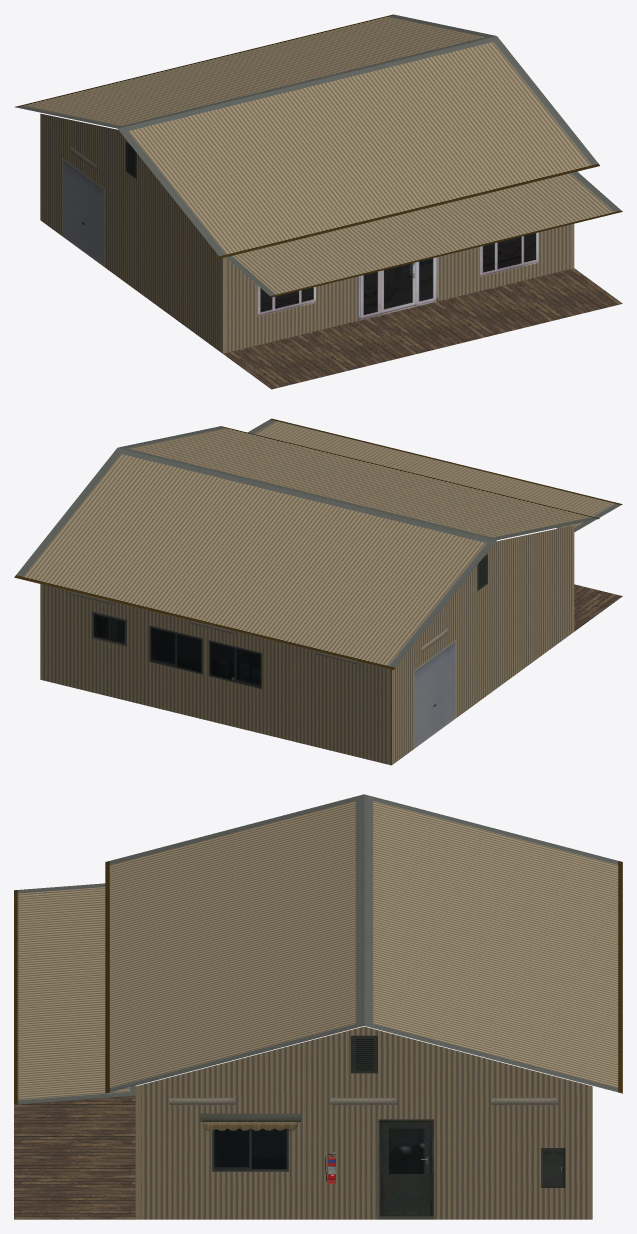
Rendered from terminal-tiny-05-10x10-cbj_LOD02.gltf.
The picture shows the model from 3 angles, top to bottom: view 1: azimuth 30°, elevation 25°; view 2: azimuth 150°, elevation 25°; view 3: azimuth 270°, elevation 25°; orthographic projection. The views are drawn at different scales.
Parts seen in each view (by area): view 1: Cube02; view 2: Cube02; view 3: Cube02.
Boxes of the visible parts, x1,y1,x2,y2 form: Cube02: (14,14,622,389); Cube02: (14,418,622,765); Cube02: (14,794,622,1219).
Size of the model in its own units: 10.8 by 4.4 by 12.
